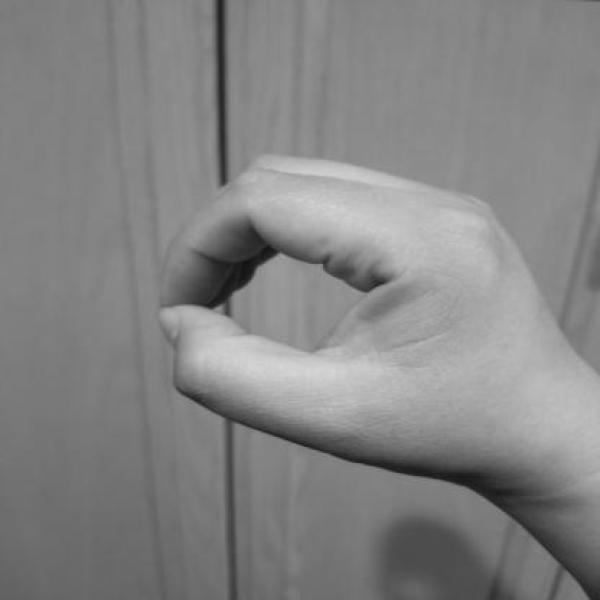O: (148, 147, 582, 488)
